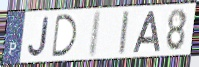8: (166, 8, 188, 52)
A: (131, 10, 161, 54)
D: (51, 14, 79, 59)
I: (87, 9, 103, 59), (118, 10, 130, 56)
J: (27, 16, 51, 58)
